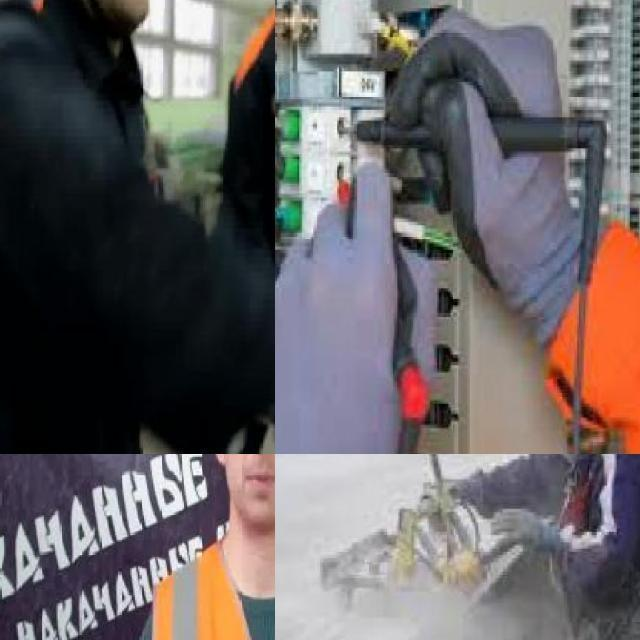apron: (390, 0, 592, 316), (275, 167, 423, 454), (492, 500, 558, 560)
